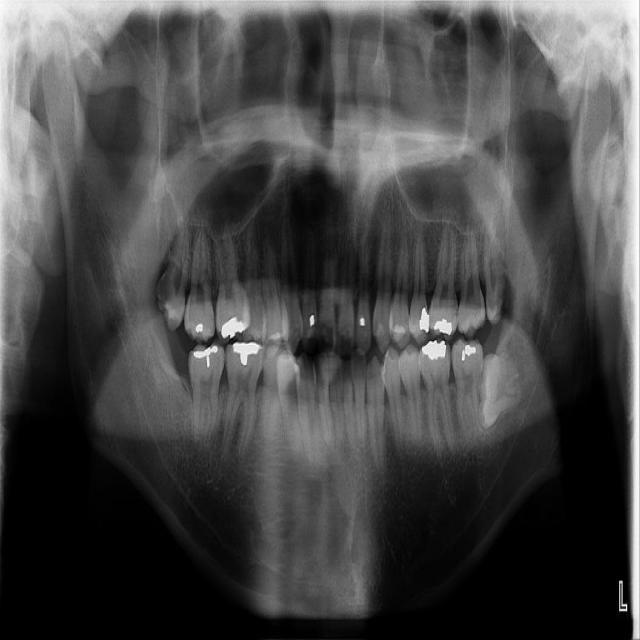3M ESPE Implant: (152, 210, 197, 332)
52: (203, 289, 263, 347), (220, 334, 266, 394), (185, 335, 226, 393), (178, 298, 220, 349), (448, 332, 485, 385), (416, 335, 452, 389), (424, 295, 462, 343), (299, 299, 320, 355), (389, 300, 412, 351), (408, 295, 430, 346), (353, 306, 374, 358), (495, 269, 509, 319), (155, 275, 175, 304)
73: (620, 620, 628, 628)
BioHorizons Implant: (455, 224, 489, 339)
BioLife Implant: (476, 216, 513, 326)
Biomet 3i Implant: (477, 353, 522, 429)
Blue Sky Bio Implant: (451, 335, 484, 438)
Caries: (182, 219, 221, 346)
Implant: (188, 339, 225, 450)
